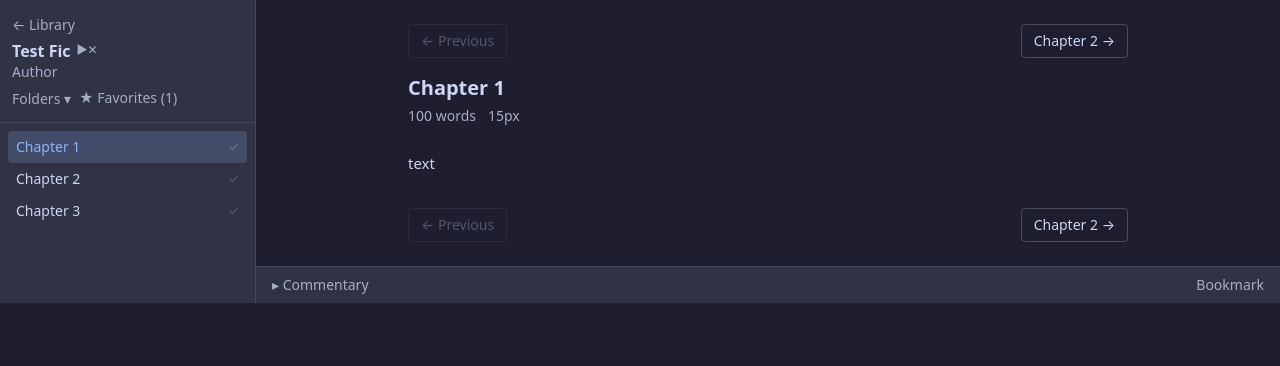
Test: Reader bookmark actions › shows an error instead of failing silently when clearing a bookmark fails
Click the button titled "Clear continue bookmark" at coordinates (87, 50), box [76,42,98,58]
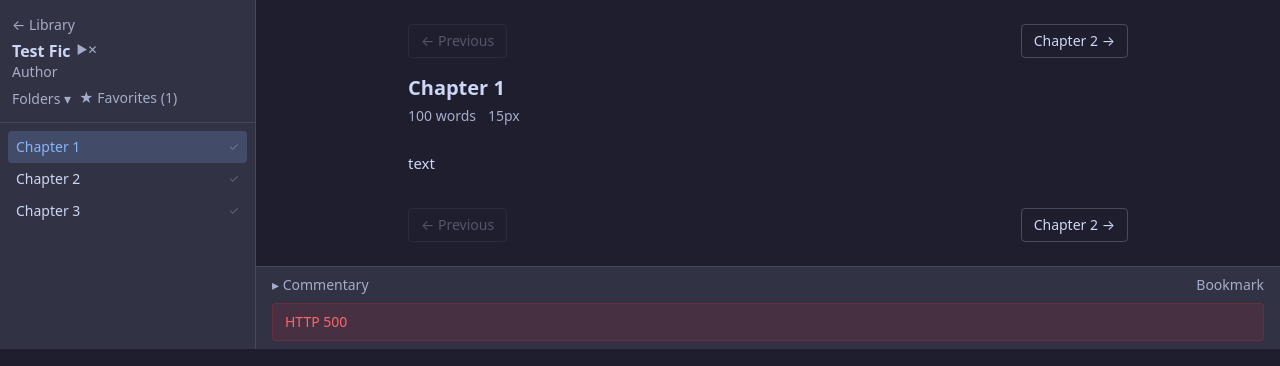
expect the text "HTTP 500" is shown: met, box [272,303,1264,341]
